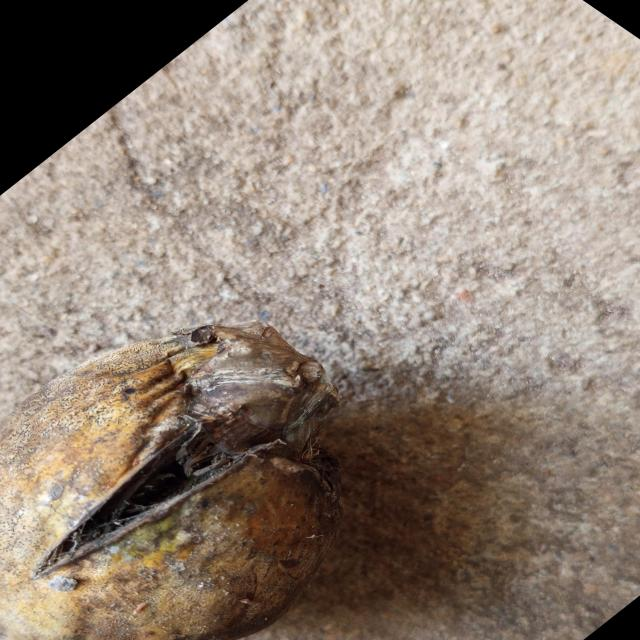damaged: (0, 322, 342, 640)
